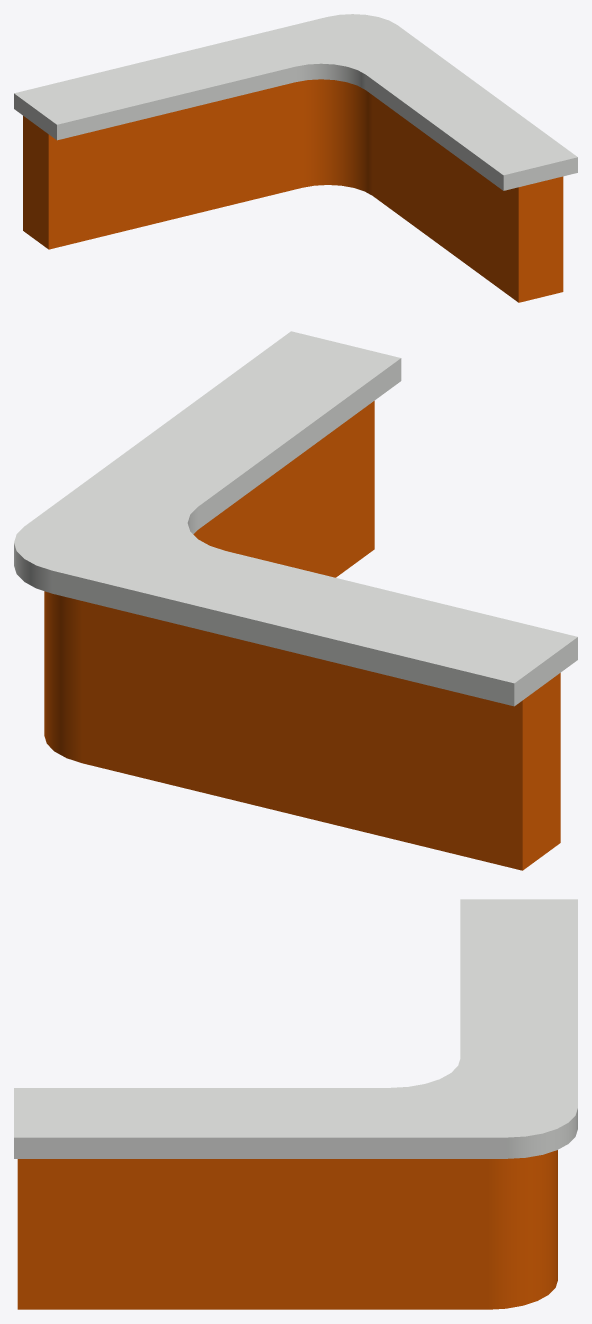
File: station.dae
3 renders of one model, top to bottom at view 1: azimuth 30°, elevation 25°; view 2: azimuth 150°, elevation 25°; view 3: azimuth 270°, elevation 25°, orthographic. The views are drawn at different scales.
Visible parts, largest first — view 1: obj; view 2: obj; view 3: obj.
Part boxes in pixels (bbox=[...]): obj: bbox=[14, 14, 577, 302]; obj: bbox=[14, 331, 577, 870]; obj: bbox=[14, 899, 577, 1309].
Bounding box in the file's own units: 1.2 × 1.2 × 0.425.
